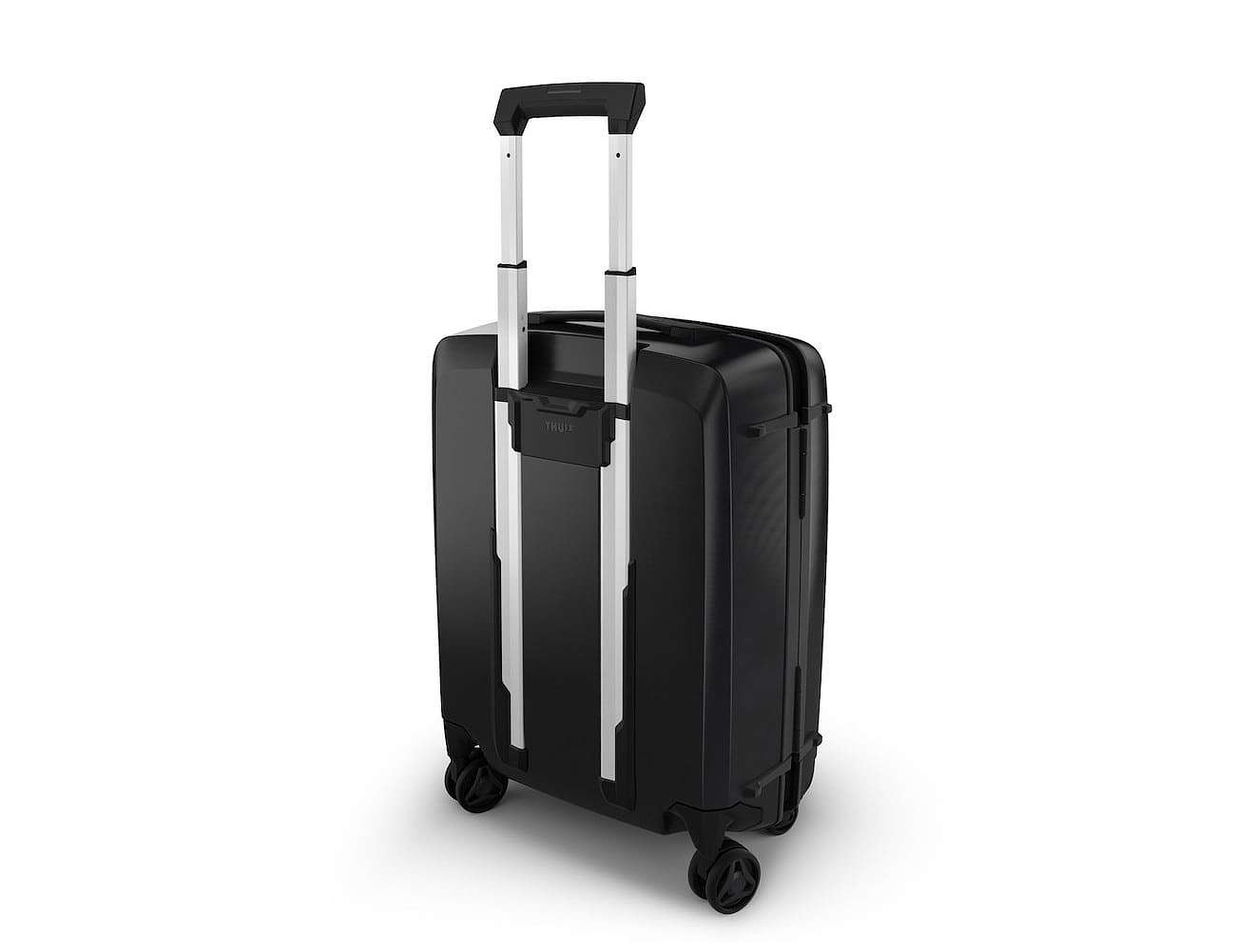box: (428, 310, 828, 837)
wheel: (688, 839, 762, 916), (443, 748, 509, 814)
